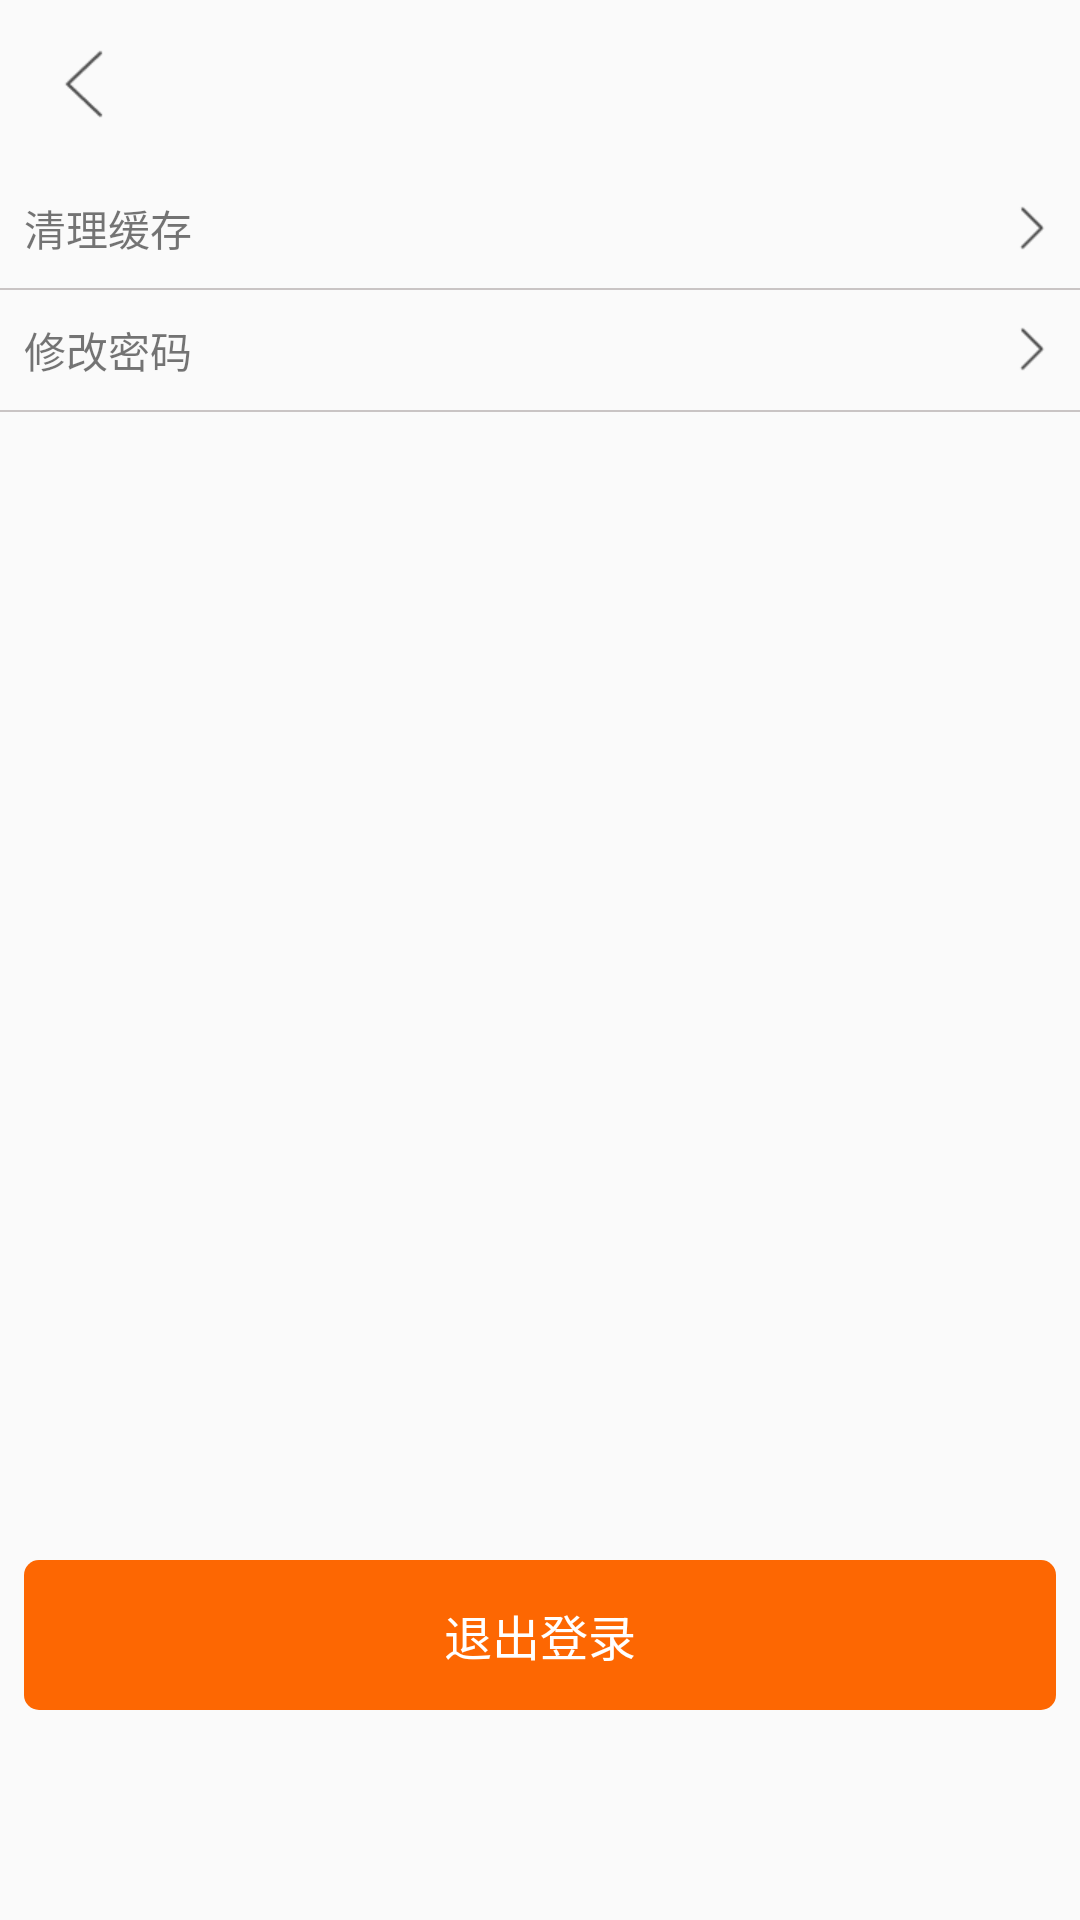

Named icons in this screenshot (1080 x 1920) and their centers, point (x, y):
next: point (1032, 228), point (1032, 349)
